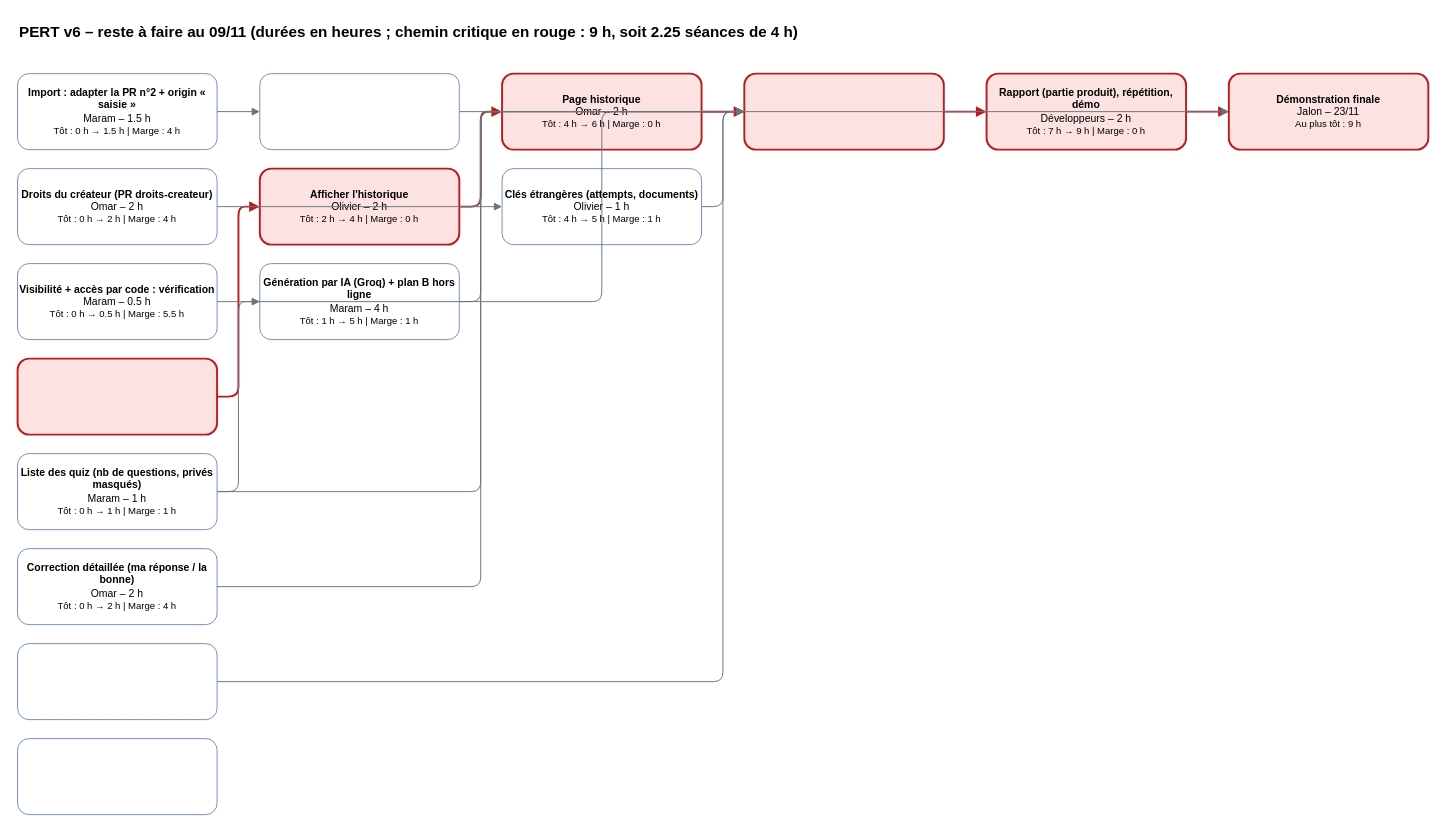
Image size: 1445x831. Some labels were removed from this diagram. Each missing label, with the centre of its shape:
"Enregistrer les scores (attempts) Olivier – 2 h Tôt : 0 h → 2 h | Marge : 0 h" belongs at point (117, 396).
"Import : relecture + fusion Omar – 0.5 h Tôt : 1.5 h → 2 h | Marge : 4 h" belongs at point (359, 111).
"Rapport – partie gestion de projet Sanda – 6 h Tôt : 0 h → 6 h | Marge : 3 h" belongs at point (117, 681).
"Sécurité : hachage + clé secrète Olivier – 1 h Tôt : 0 h → 1 h | Marge : 8 h" belongs at point (117, 776).
"Tests de chaque module Développeurs – 1 h Tôt : 6 h → 7 h | Marge : 0 h" belongs at point (843, 111).
